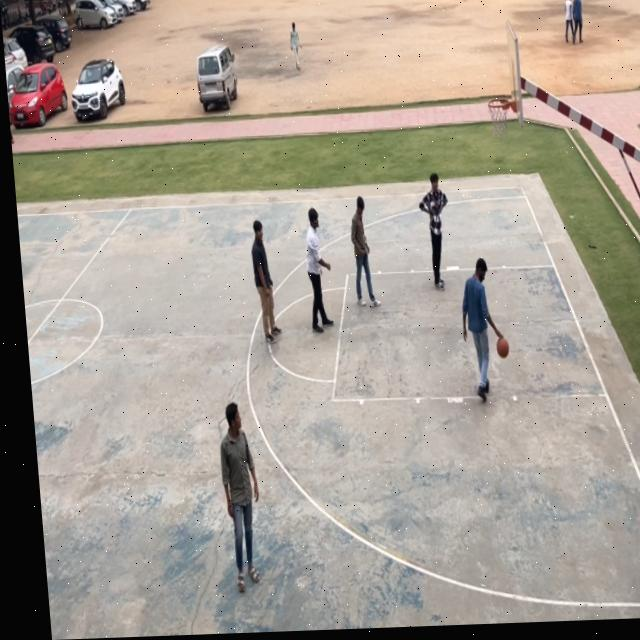basketball: (494, 337, 514, 362)
hoop: (485, 88, 513, 134)
